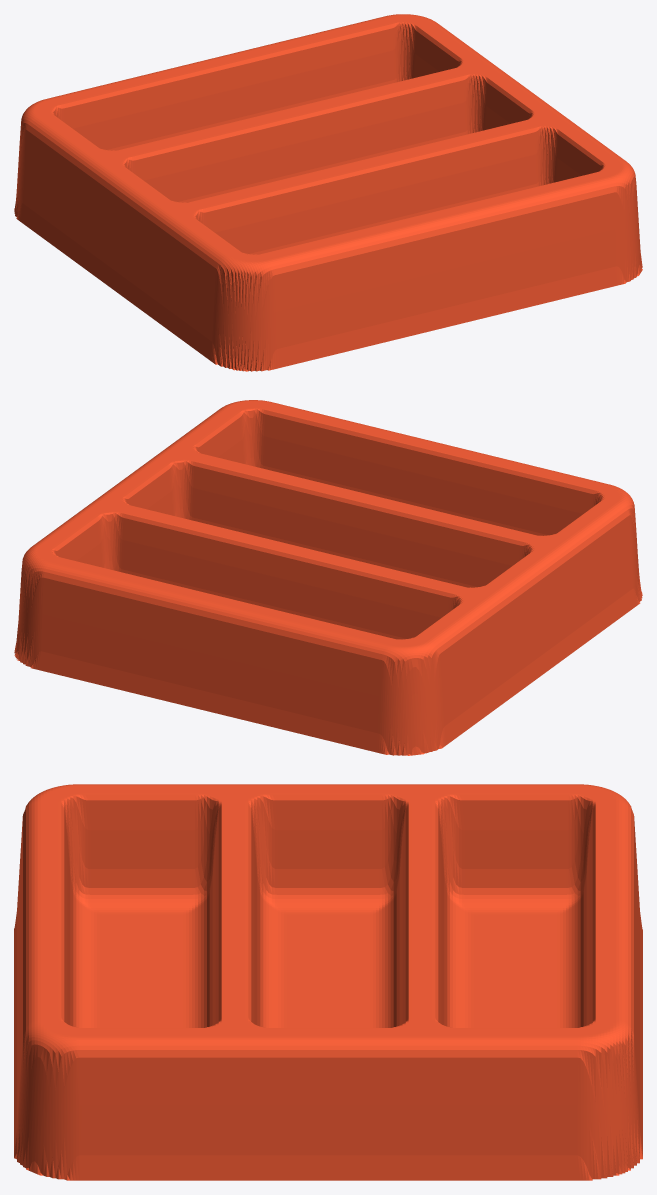
Rendered from mold.glb.
3 views of the same model, one above another, from view 1: azimuth 30°, elevation 25°; view 2: azimuth 150°, elevation 25°; view 3: azimuth 270°, elevation 25° (orthographic). The views are drawn at different scales.
Visible parts, largest first — view 1: geometry_0; view 2: geometry_0; view 3: geometry_0.
Boxes of the visible parts, box(x1,y1,x2,y2) form: geometry_0: box(14, 14, 642, 371); geometry_0: box(14, 400, 642, 755); geometry_0: box(14, 784, 642, 1180).
Size of the model in its own units: 0.0906 by 0.0205 by 0.0881.
